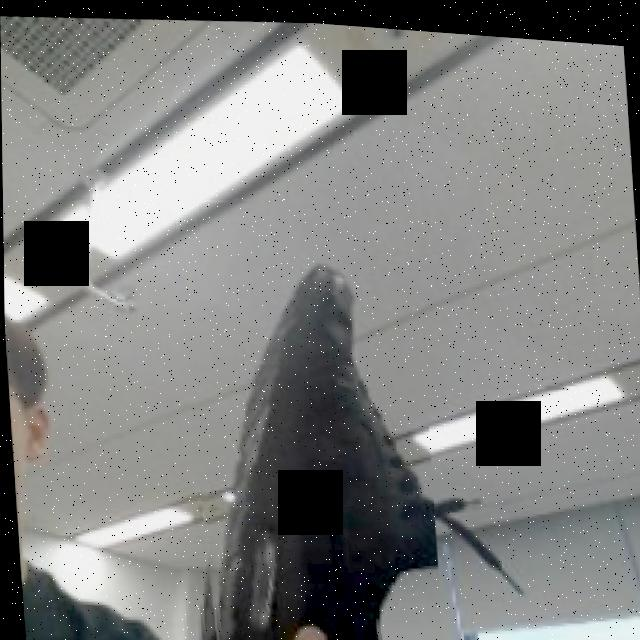shoe: (173, 242, 442, 640)
